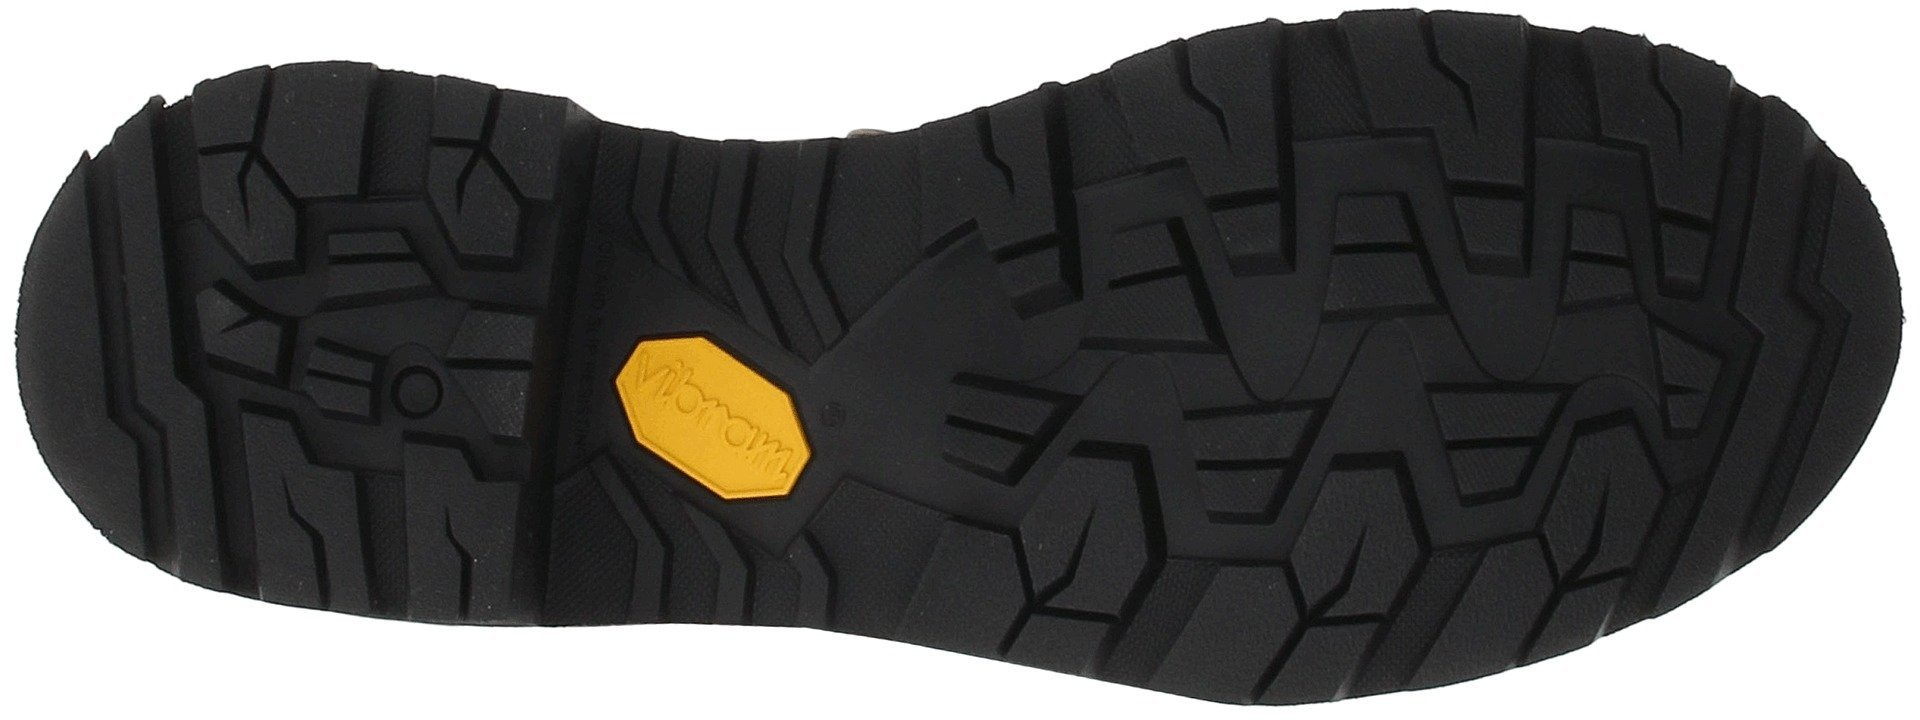circle: (391, 365, 446, 418)
polygon: (1000, 431, 1169, 632)
quad: (287, 235, 558, 454), (902, 356, 1091, 500), (1281, 23, 1363, 147)
